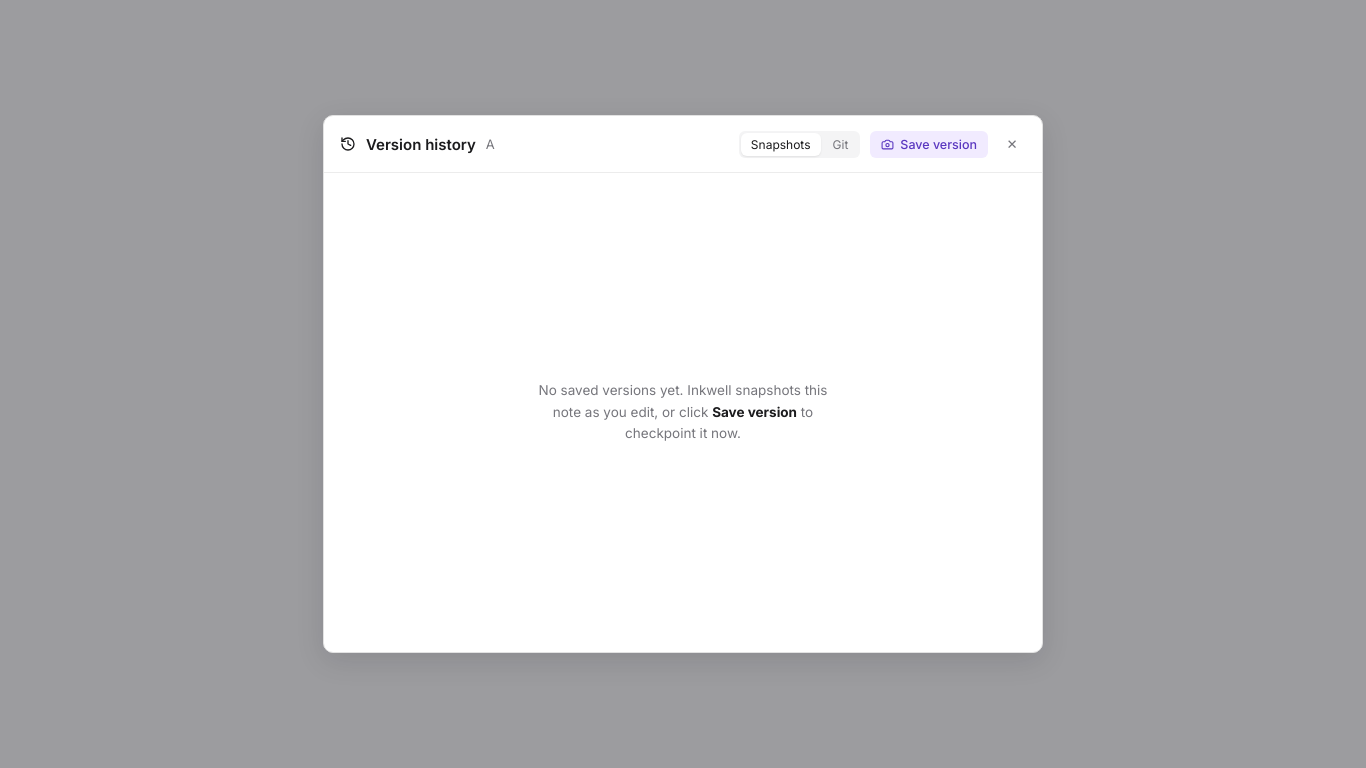
History → Git › with git history off it says where to turn it on
Step 1. Click the tab "Git" → (840, 144), box [822,133,858,156]
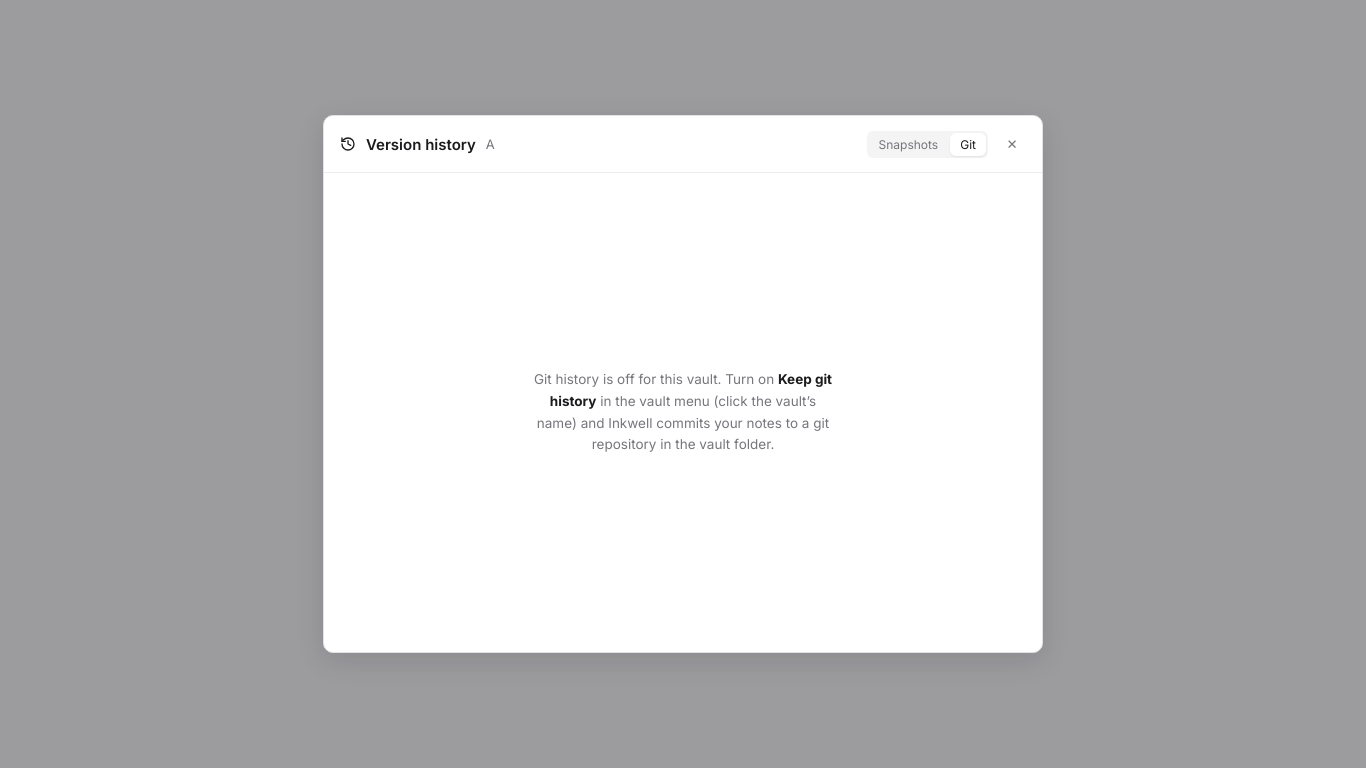
Expected: the element with class "hist-empty" shows "Keep git history", [550,371,832,409]
